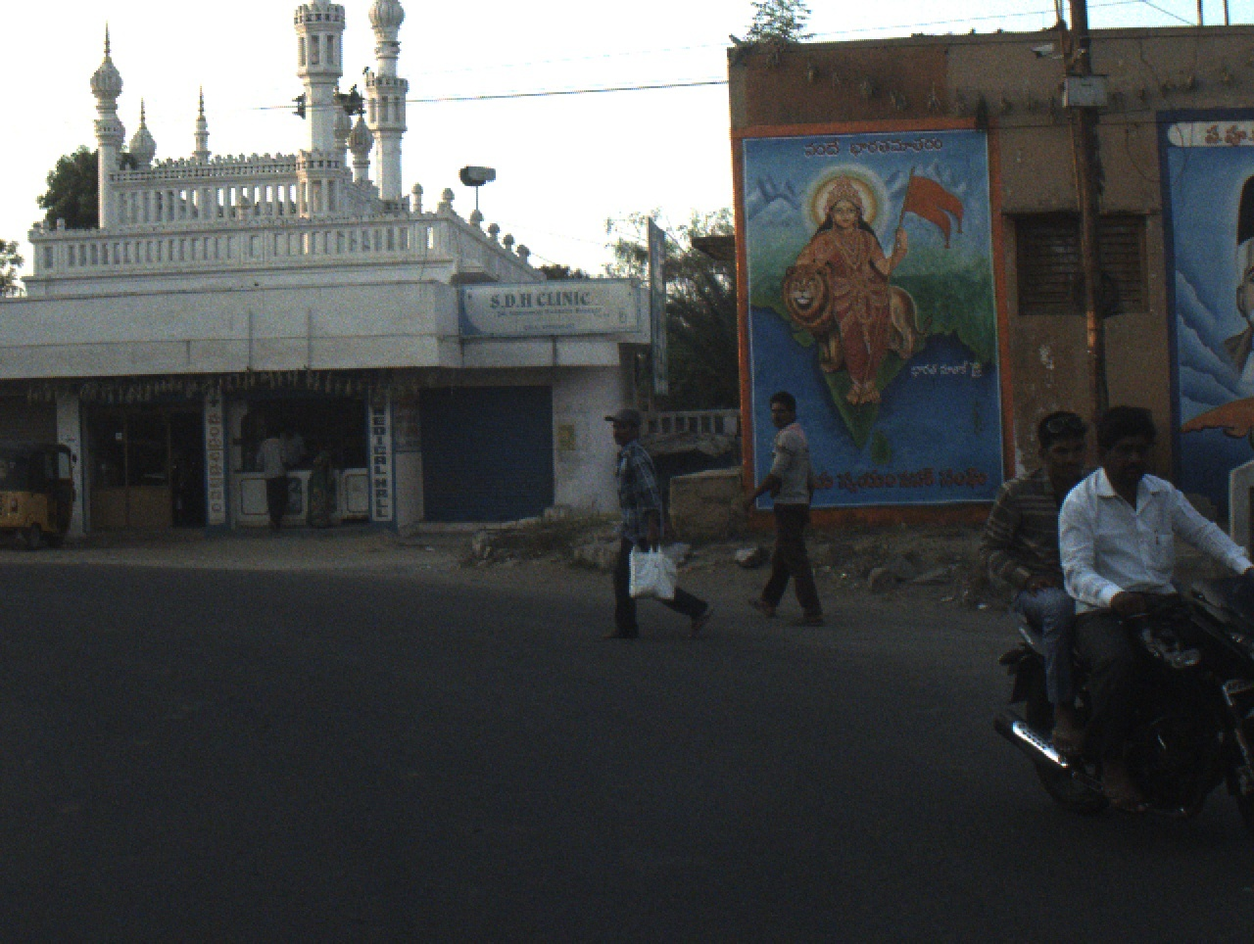autorickshaw: (1, 436, 80, 554)
motorcycle: (990, 556, 1254, 833)
person: (601, 401, 715, 652), (730, 385, 826, 633), (251, 426, 293, 535), (303, 431, 344, 537)
rider: (1055, 402, 1254, 806), (982, 407, 1125, 773)
